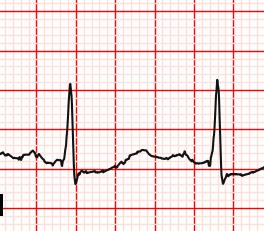ST Depression: (58, 156, 86, 189), (204, 159, 234, 187)
